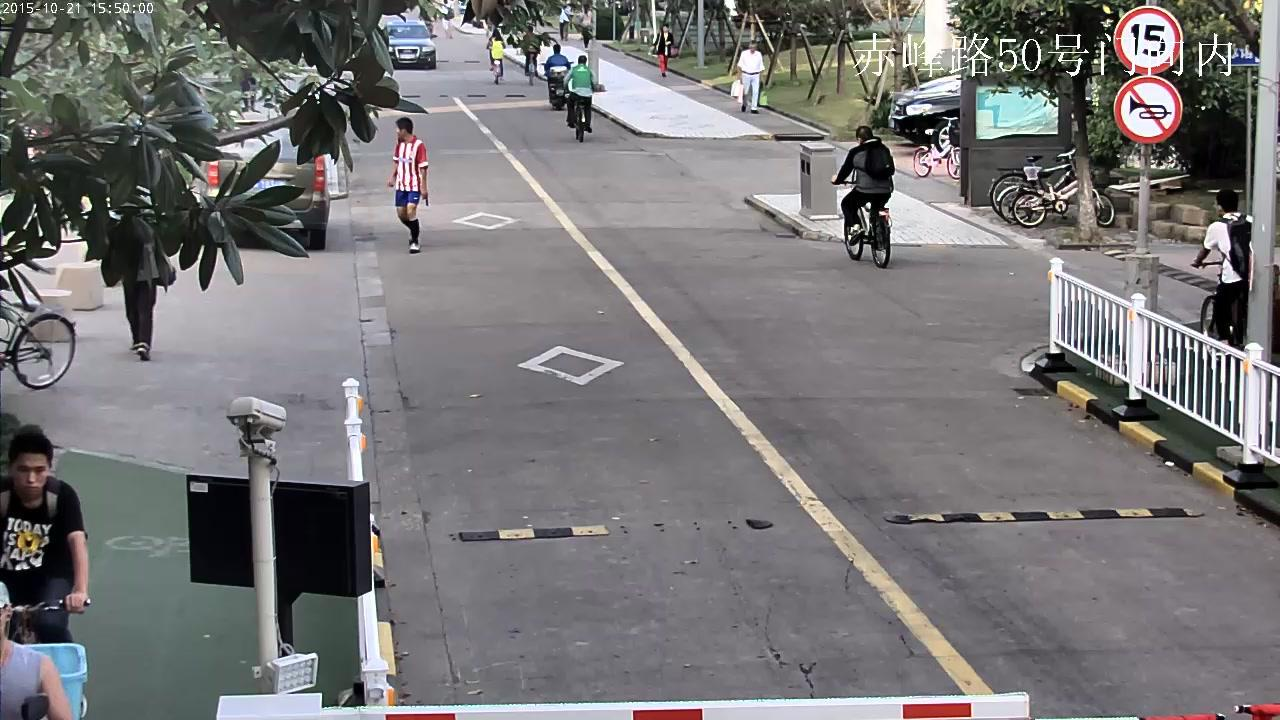face: (15, 454, 47, 492), (0, 605, 5, 641), (1215, 198, 1219, 215), (397, 127, 402, 140), (749, 44, 756, 51), (663, 25, 667, 32)
